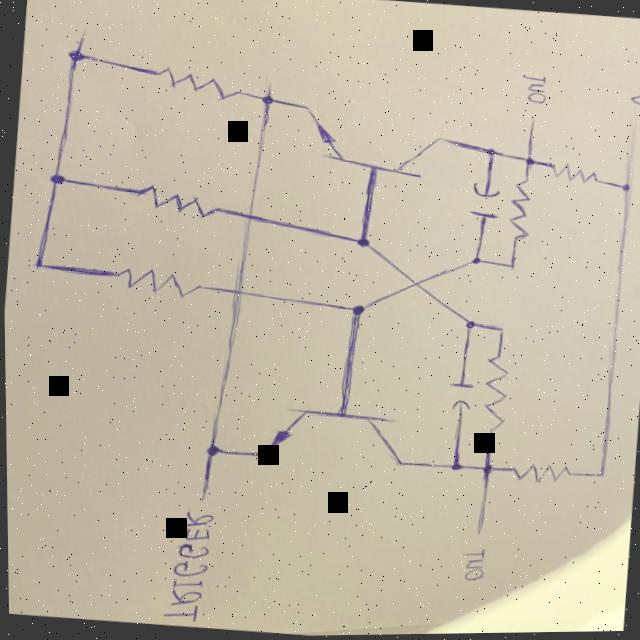capacitor: (465, 179, 505, 228), (443, 375, 479, 419)
crossover: (400, 267, 435, 299), (227, 281, 250, 299), (240, 208, 260, 226)
junction: (36, 165, 80, 194), (249, 83, 285, 118), (23, 251, 58, 279), (344, 297, 377, 326), (194, 435, 228, 463), (348, 229, 379, 259), (61, 45, 93, 67), (478, 141, 508, 163), (613, 177, 640, 199), (475, 457, 502, 479), (441, 457, 467, 477), (501, 254, 523, 276), (519, 153, 543, 173), (467, 251, 490, 271), (460, 314, 481, 335), (488, 322, 512, 339), (592, 469, 612, 485)
resistor: (150, 59, 243, 104), (130, 179, 224, 222), (109, 263, 203, 302), (478, 353, 514, 435), (503, 176, 536, 247), (507, 459, 574, 487), (542, 158, 604, 187)
terminal: (616, 119, 640, 167), (469, 508, 491, 540), (523, 110, 544, 143), (192, 475, 213, 506), (77, 17, 92, 48)
text: (157, 505, 215, 626), (514, 68, 552, 108), (456, 547, 489, 583), (625, 91, 640, 113)
transistor: (295, 94, 446, 184), (248, 399, 412, 475)
